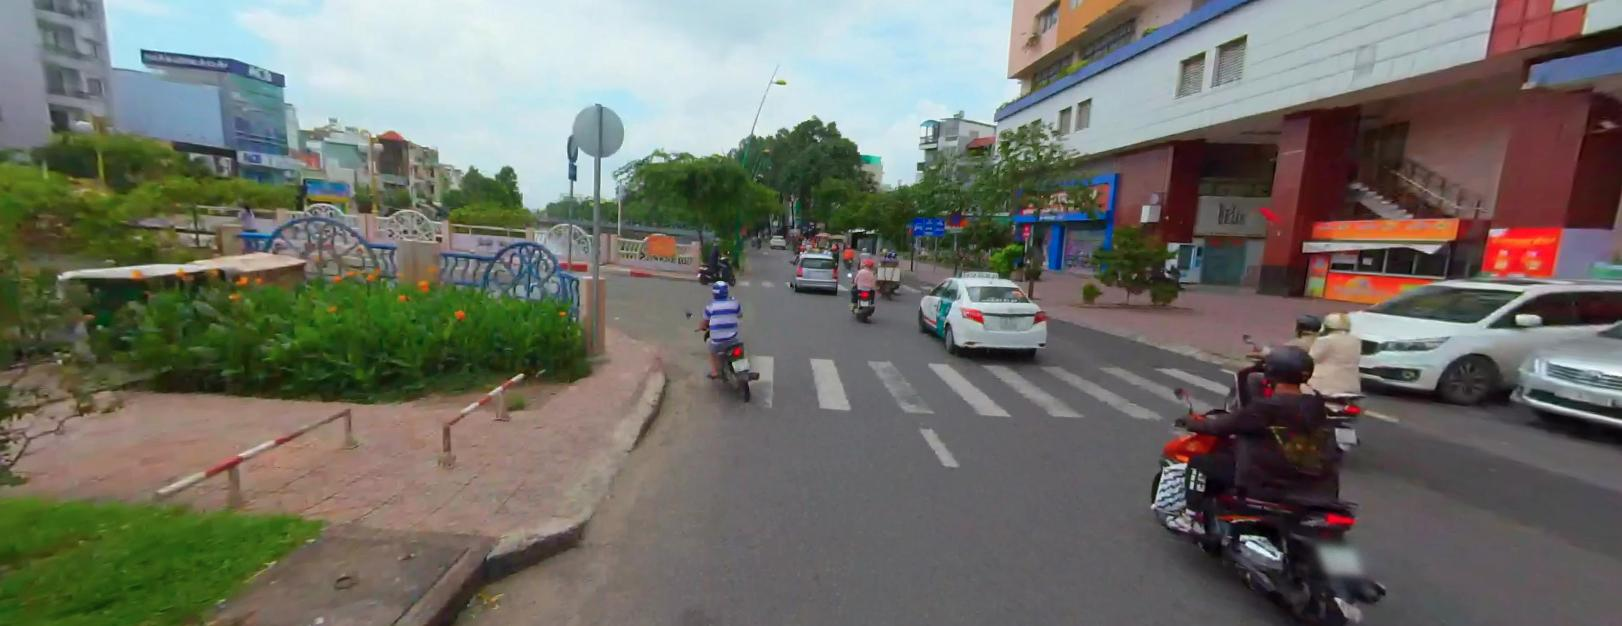Cam dung va do: (947, 207, 963, 223)
